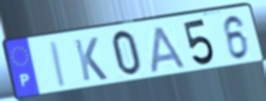0: (110, 29, 145, 81)
5: (181, 18, 215, 67)
6: (222, 13, 252, 60)
A: (150, 24, 188, 75)
I: (49, 40, 69, 90)
K: (71, 35, 109, 83)
